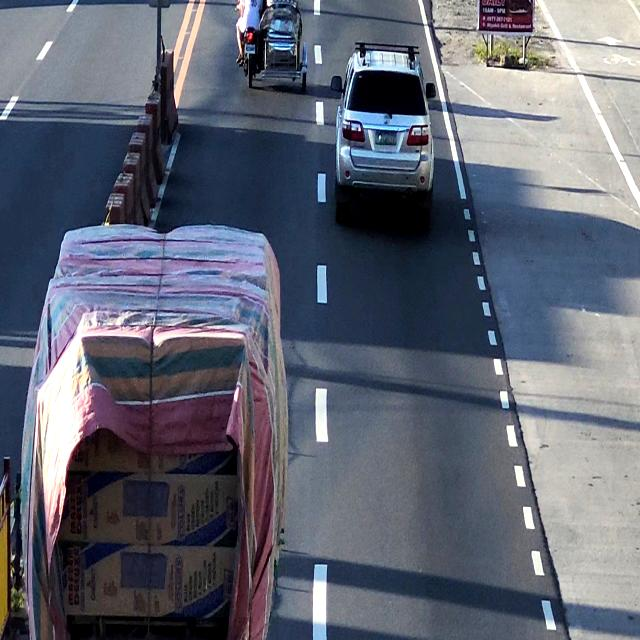Car: (337, 46, 434, 221)
License-Plate: (373, 132, 398, 148)
Tricycle: (233, 0, 310, 91)
Truck: (34, 222, 277, 640)
